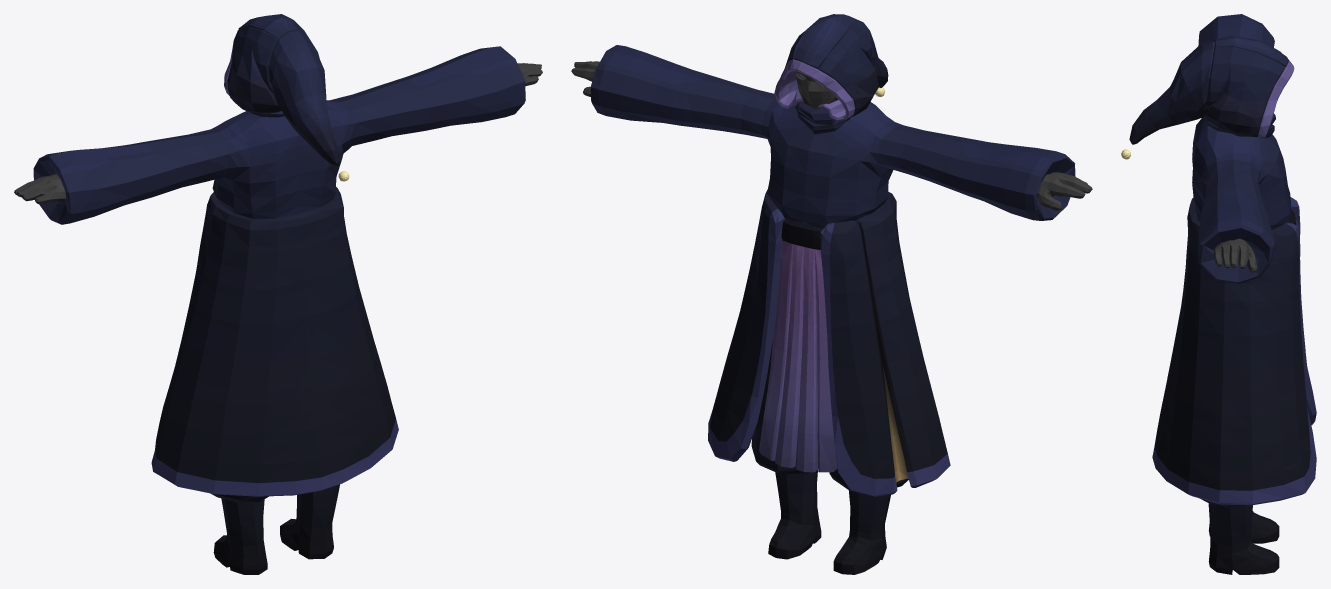
File: NPC_AP29PleatedCivilian.glb
3 views of the same model, side by side, from view 1: azimuth 30°, elevation 25°; view 2: azimuth 150°, elevation 25°; view 3: azimuth 270°, elevation 25° (orthographic). The views are drawn at different scales.
Visible parts, largest first — view 1: NPC_AP29PleatedCivilian; view 2: NPC_AP29PleatedCivilian; view 3: NPC_AP29PleatedCivilian.
Part boxes in pixels (bbox=[...]): NPC_AP29PleatedCivilian: bbox=[14, 14, 542, 574]; NPC_AP29PleatedCivilian: bbox=[571, 14, 1092, 574]; NPC_AP29PleatedCivilian: bbox=[1121, 14, 1316, 574].
Size of the model in its own units: 14.03 by 13.8 by 4.76.
1 material, 1 textured.
